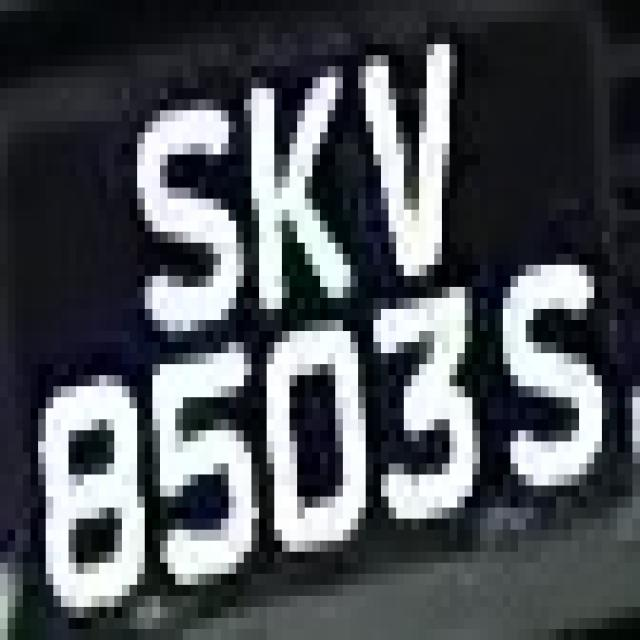0: (244, 265, 381, 563)
3: (343, 254, 472, 552)
5: (130, 298, 274, 607)
8: (38, 342, 160, 607)
K: (206, 44, 335, 309)
S: (480, 220, 610, 540), (92, 88, 228, 331)
V: (336, 22, 472, 298)
